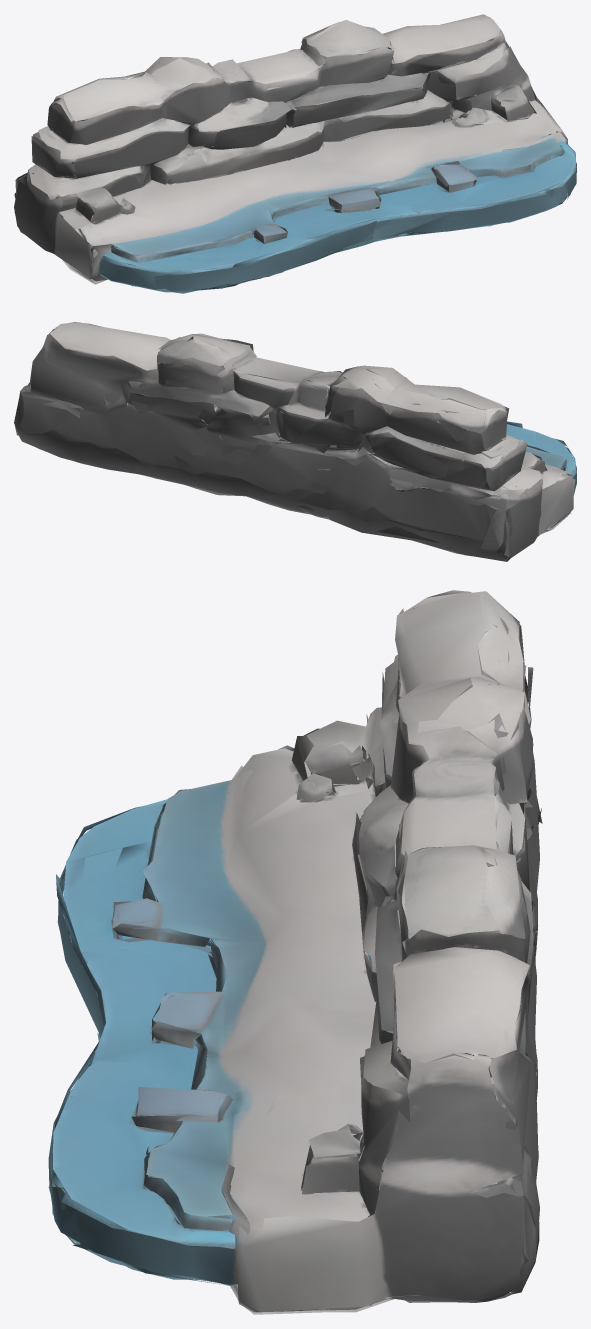
The model's file is winter-riverbank-lod.glb.
3 renders of one model, top to bottom at view 1: azimuth 30°, elevation 25°; view 2: azimuth 150°, elevation 25°; view 3: azimuth 270°, elevation 25°, orthographic. The views are drawn at different scales.
Visible parts, largest first — view 1: world; view 2: world; view 3: world.
Part boxes in pixels (box(x1,y1,x2,y2)): world: box(14, 14, 576, 293); world: box(14, 322, 576, 561); world: box(48, 590, 542, 1314).
Bounding box in the file's own units: 0.3001 × 0.0933 × 0.1304.
Materials: 1 (1 with a texture image).
